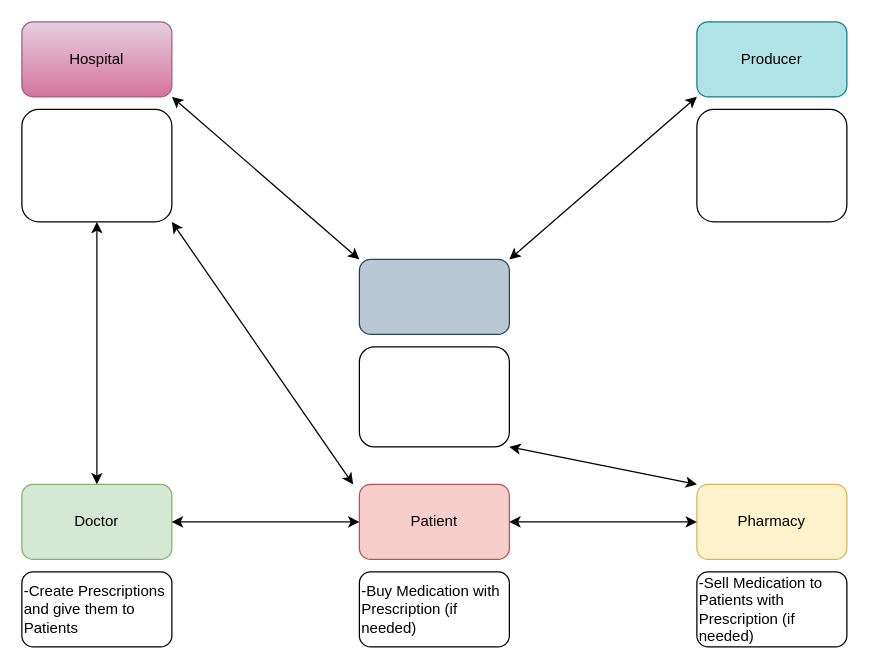
The diagram is 869 pixels wide and 669 high, and some of its shapes have lost their labels. The centre of each missing label's shape, as x and y in pixels:
- Create/Update Doctors and Patients: [96,165]
- Create/Update Hospitals, Producers and Pharmacies: [433,396]
-Create MedicationTokens -Send MedicationTokens to Pharmacies: [771,165]
Admin: [433,296]
